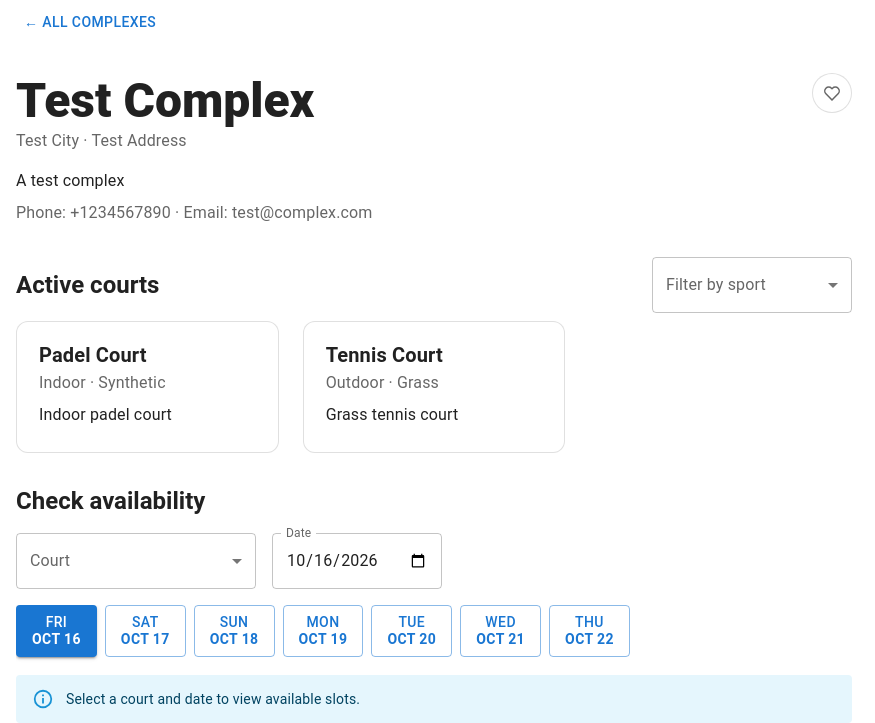
Test: ComplexDetailPage › filters courts by sport using the sport filter
This screenshot has width=875, height=723.
Expected: the heading "Padel Court" is shown, [39, 342, 147, 366]
Click the dropdown named "Filter by sport" next to "Filter by sport".
click(752, 284)  # box [652, 256, 852, 312]
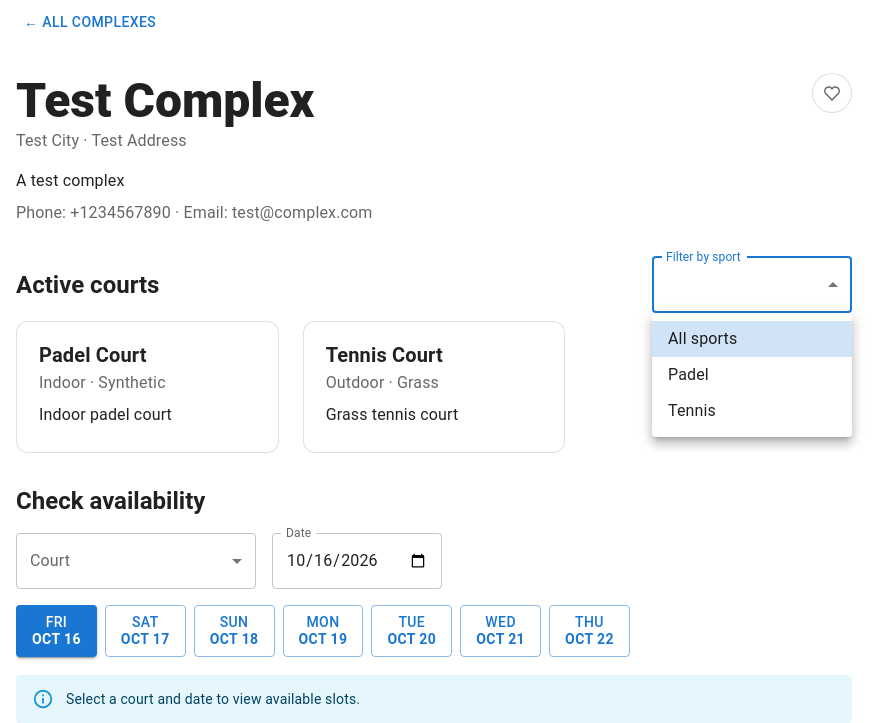
Click the option "Tennis".
click(692, 410)  # box [668, 401, 716, 420]
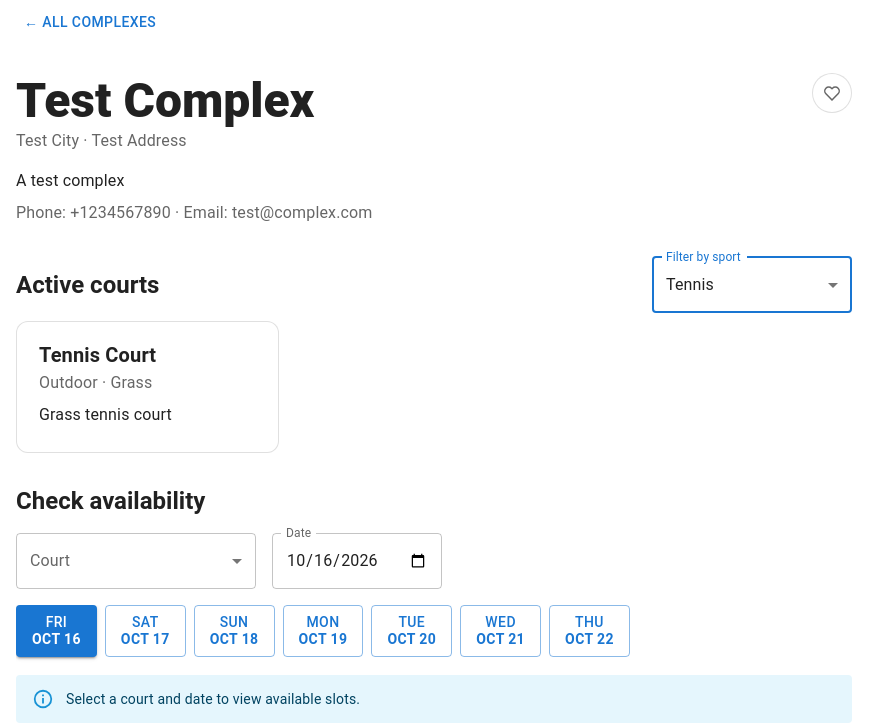
Expected: the heading "Tennis Court" is shown, [39, 342, 156, 366]
Expected: the button "Padel Court" is gone
